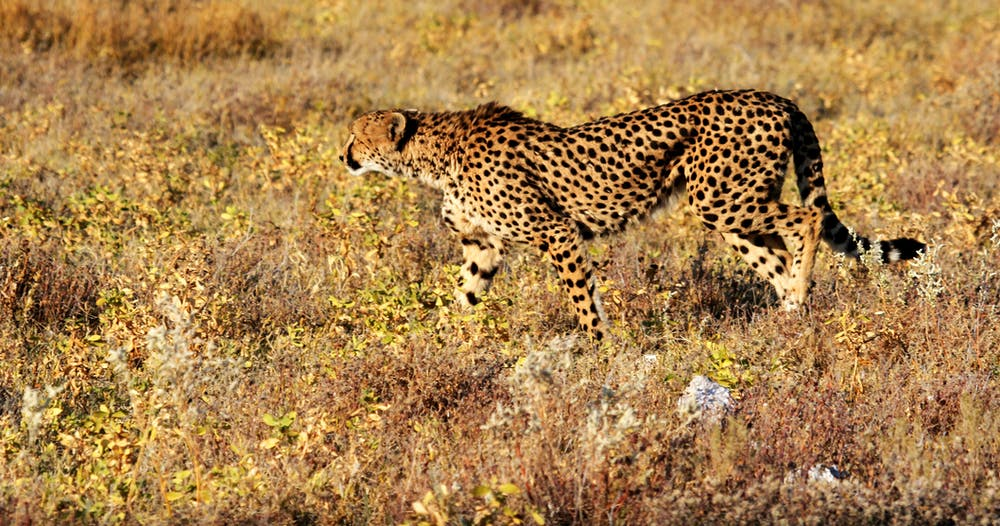cheetah: (321, 101, 421, 182)
